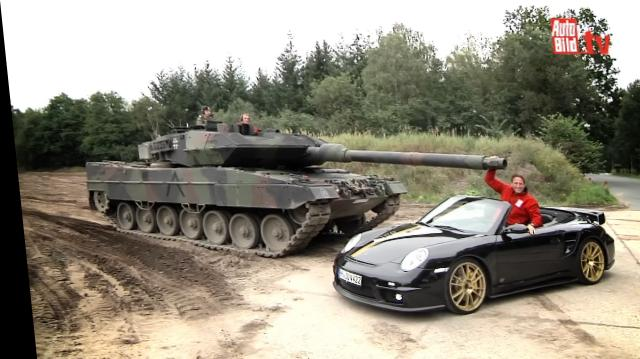other: (502, 172, 535, 223)
tank: (88, 147, 362, 238)
